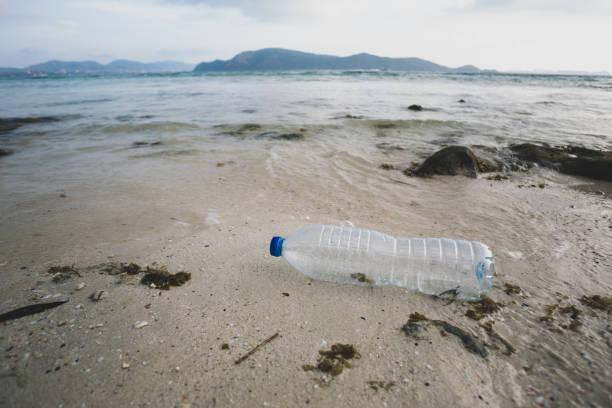Plastic: (274, 222, 504, 300)
